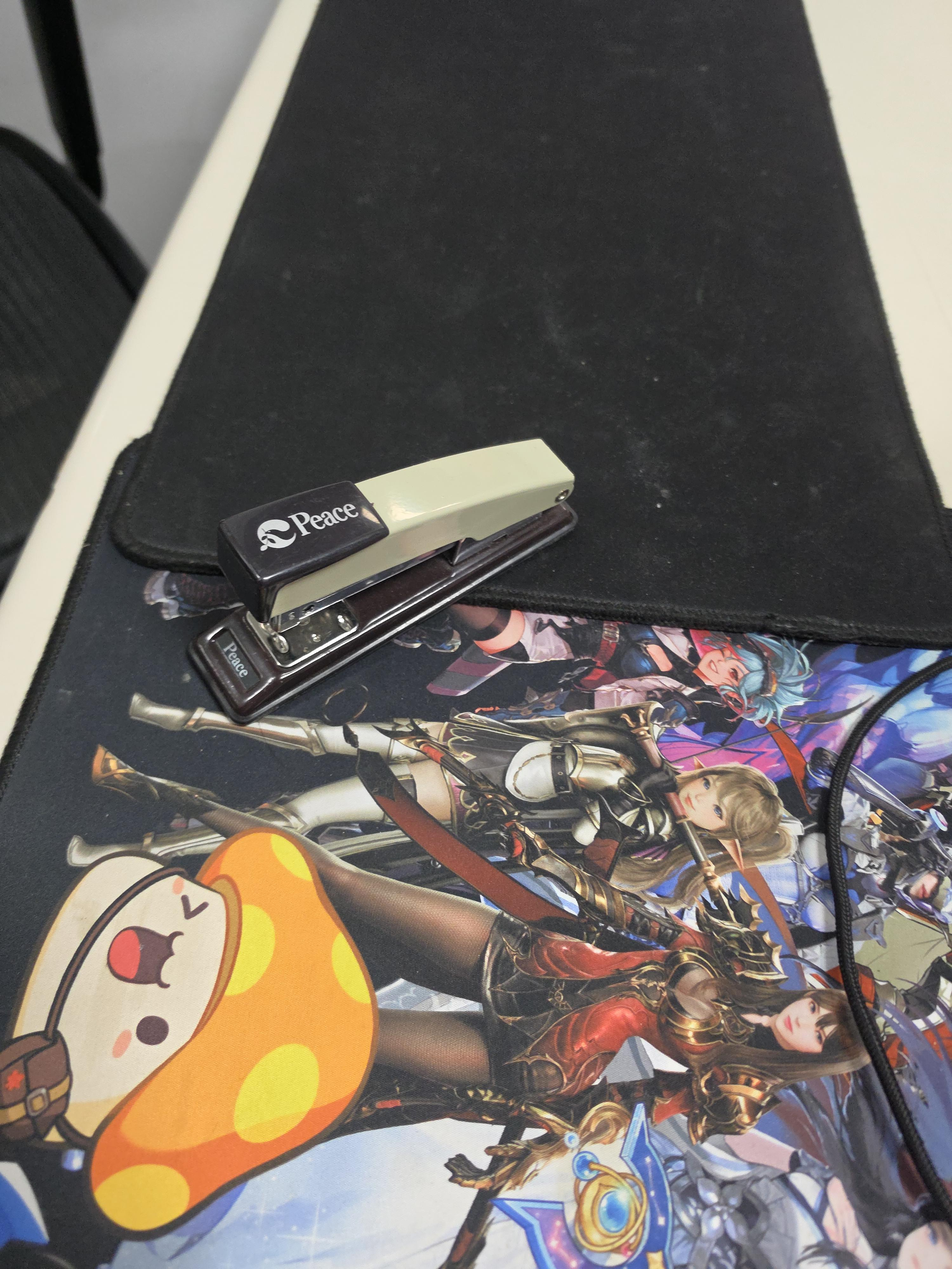stapler: (185, 437, 578, 726)
